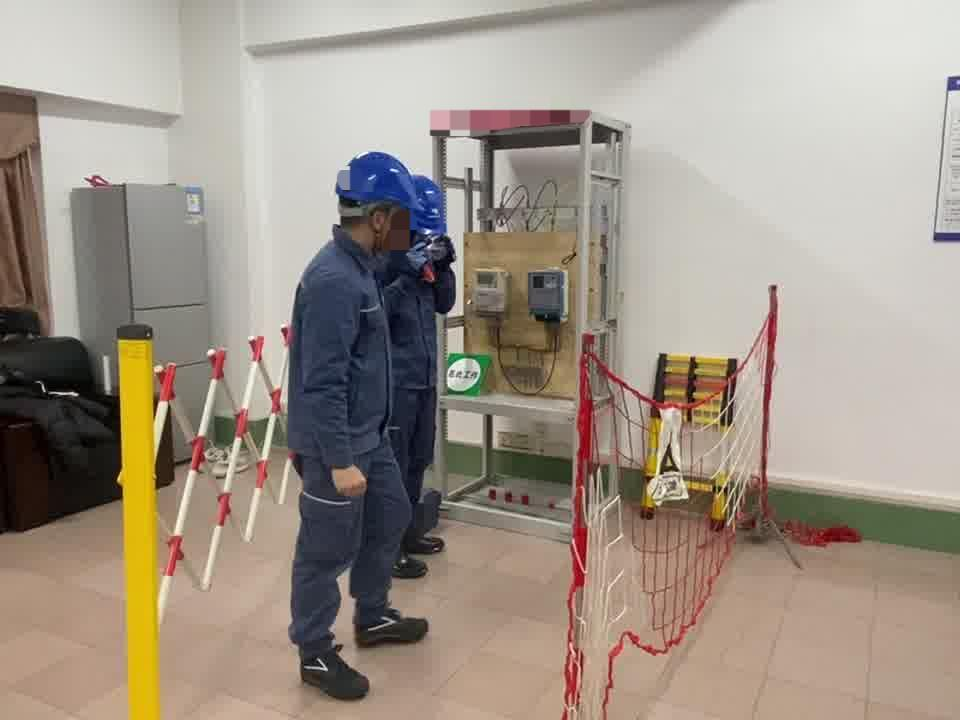halt: (336, 152, 430, 253)
inear: (362, 205, 400, 249)
